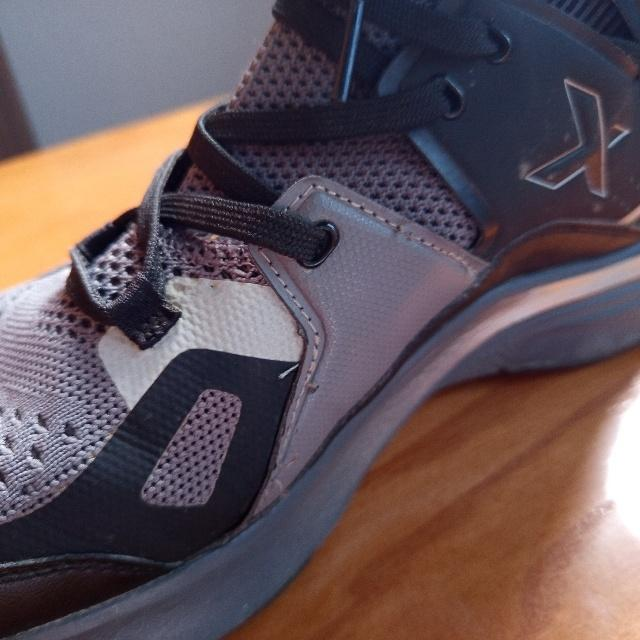broken-error: (267, 451, 304, 496), (390, 219, 424, 247)
